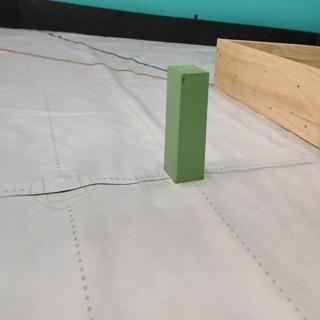greenbox: (163, 63, 209, 186)
